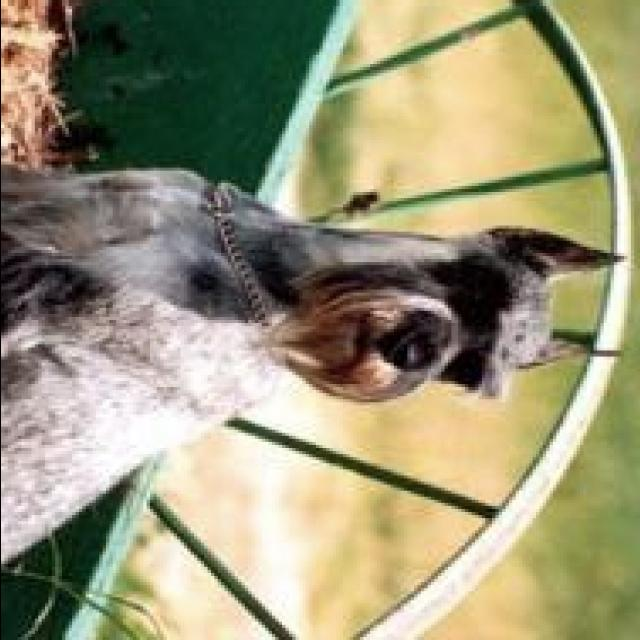standard_schnauzer: (3, 165, 630, 573)
